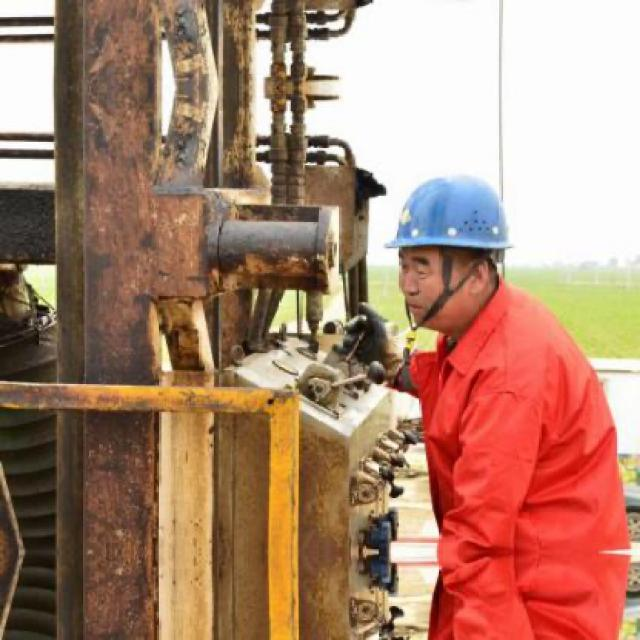helmet: (376, 152, 526, 338)
